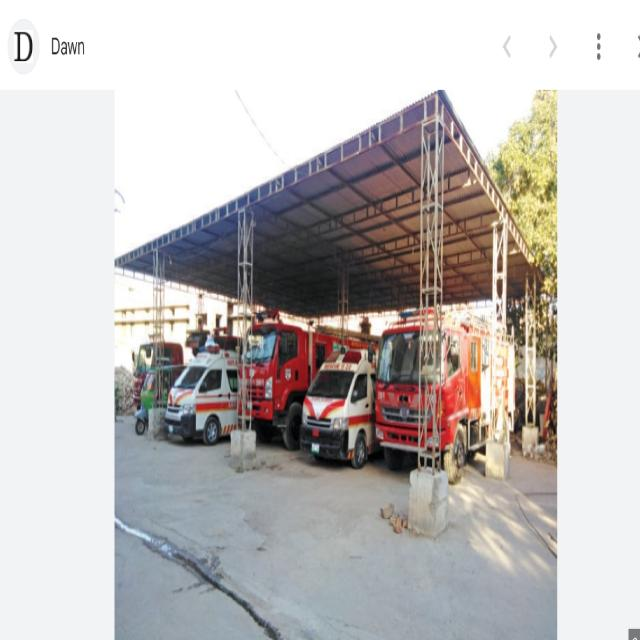ambulance: (162, 324, 230, 460), (306, 354, 372, 455)
fire brigade: (379, 320, 504, 449), (228, 311, 306, 455)
